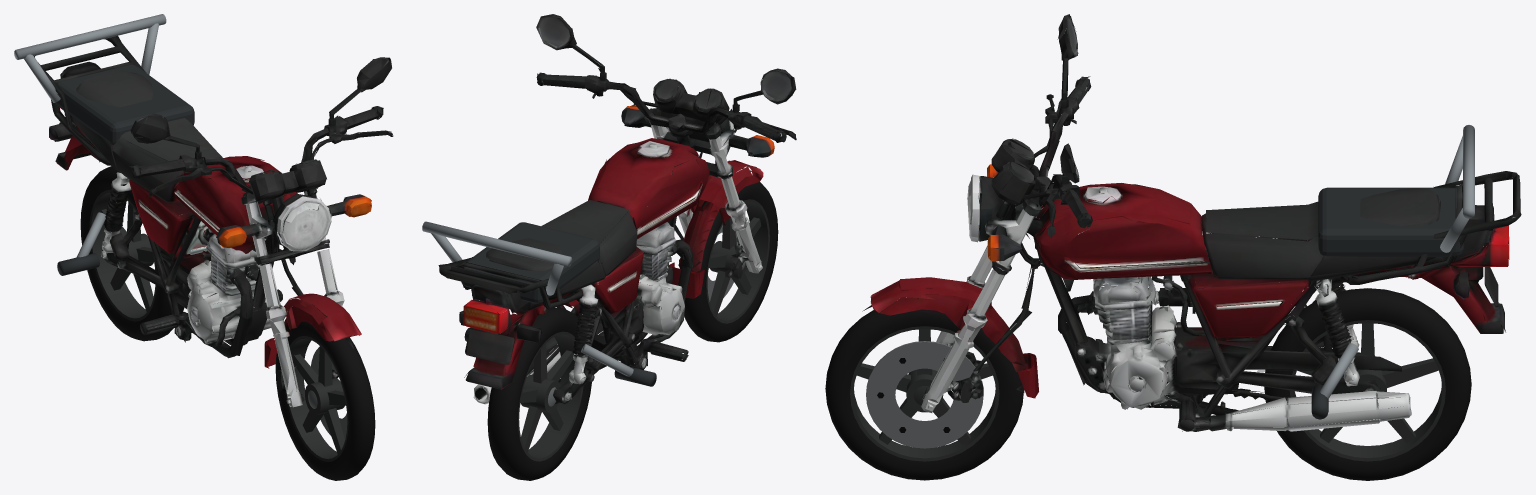
File: moto-passenger-1.glb
3 views of the same model, side by side, from view 1: azimuth 30°, elevation 25°; view 2: azimuth 150°, elevation 25°; view 3: azimuth 270°, elevation 25° (orthographic). The views are drawn at different scales.
Parts seen in each view (by area): view 1: Frota_moto, Fork, Tyre_Front, Tyre_Rear, PassengerSeatCushion, PassengerGrabBar, PassengerFootrest_R, PassengerGrabSupport_R, PassengerPegSupport_R, PassengerGrabSupport_L; view 2: Frota_moto, Fork, Tyre_Rear, Tyre_Front, PassengerSeatCushion, PassengerGrabBar, PassengerPegSupport_R, PassengerFootrest_R; view 3: Frota_moto, Fork, Tyre_Front, Tyre_Rear, PassengerSeatCushion, PassengerGrabBar.
Part boxes in pixels (left/top/right/bottom): Frota_moto: left=34, top=35, right=297, bottom=358; Fork: left=129, top=57, right=393, bottom=407; Tyre_Front: left=275, top=321, right=375, bottom=480; Tyre_Rear: left=80, top=166, right=184, bottom=341; PassengerSeatCushion: left=56, top=64, right=194, bottom=145; PassengerGrabBar: left=14, top=14, right=166, bottom=59; PassengerFootrest_R: left=57, top=253, right=99, bottom=275; PassengerGrabSupport_R: left=24, top=54, right=60, bottom=102; PassengerPegSupport_R: left=76, top=212, right=105, bottom=257; PassengerGrabSupport_L: left=141, top=23, right=158, bottom=74; Frota_moto: left=438, top=116, right=709, bottom=404; Fork: left=536, top=14, right=796, bottom=298; Tyre_Rear: left=487, top=307, right=591, bottom=480; Tyre_Front: left=684, top=182, right=778, bottom=342; PassengerSeatCushion: left=461, top=222, right=599, bottom=303; PassengerGrabBar: left=422, top=221, right=572, bottom=266; PassengerPegSupport_R: left=581, top=344, right=633, bottom=376; PassengerFootrest_R: left=614, top=367, right=656, bottom=386; Frota_moto: left=1019, top=167, right=1521, bottom=431; Fork: left=862, top=14, right=1092, bottom=412; Tyre_Front: left=825, top=297, right=1023, bottom=480; Tyre_Rear: left=1264, top=288, right=1471, bottom=480; PassengerSeatCushion: left=1318, top=187, right=1463, bottom=256; PassengerGrabBar: left=1463, top=125, right=1474, bottom=218.
Bounding box in the file's own units: 1.03 × 1.29 × 2.06.
Materials: 3 (1 with a texture image).
